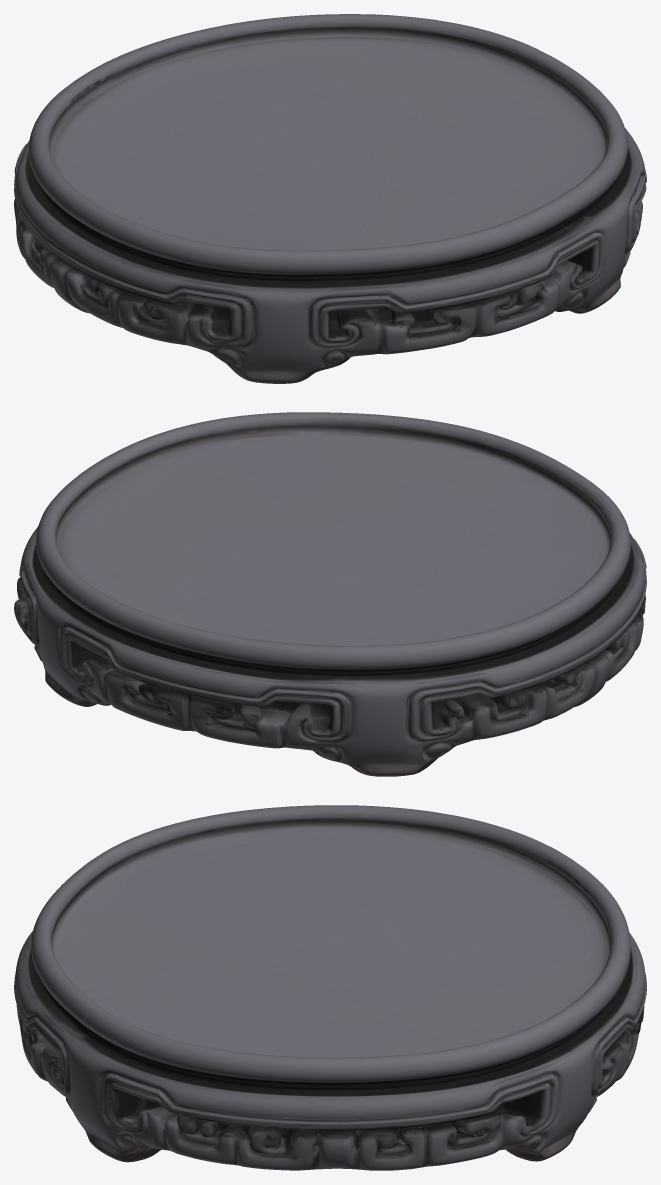
3 views of the same model, one above another, from view 1: azimuth 30°, elevation 25°; view 2: azimuth 150°, elevation 25°; view 3: azimuth 270°, elevation 25° (orthographic). The views are drawn at different scales.
Visible parts, largest first — view 1: node_0; view 2: node_0; view 3: node_0.
Part boxes in pixels (<box>): node_0: <box>14,14,646,383</box>; node_0: <box>14,412,646,776</box>; node_0: <box>14,805,646,1170</box>.
Bounding box in the file's own units: 1.19 × 0.2728 × 1.13.
Materials: 1 (1 with a texture image).
